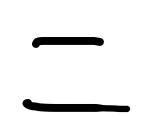eqv: (23, 37, 130, 112)
